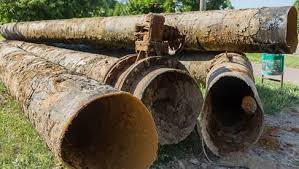rust: (5, 55, 165, 165), (5, 6, 294, 52), (117, 14, 205, 149), (200, 49, 264, 161)
